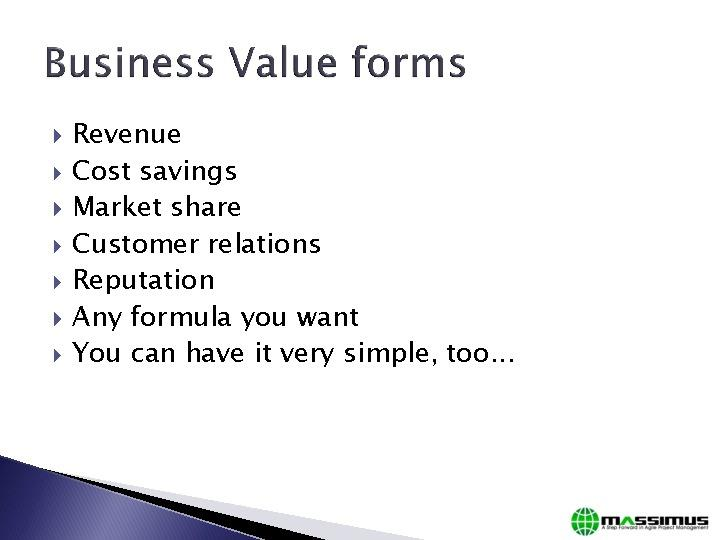paragraph: (44, 120, 589, 412)
subtitle: (601, 510, 720, 539)
title: (35, 35, 499, 107)
